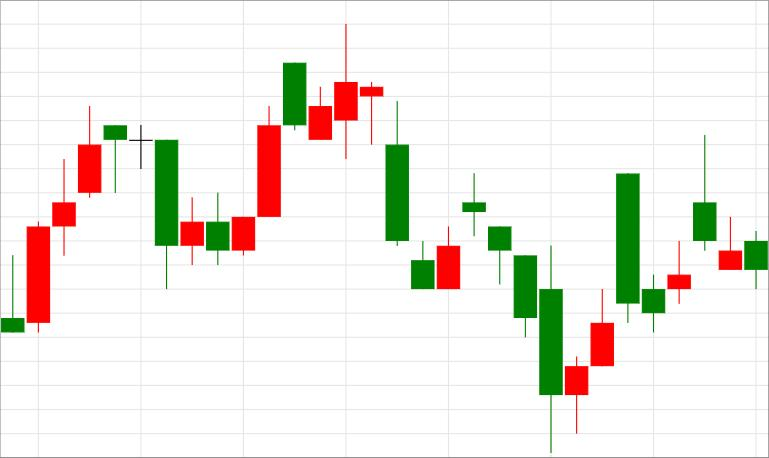shooting_star_fall: (566, 134, 716, 432)
